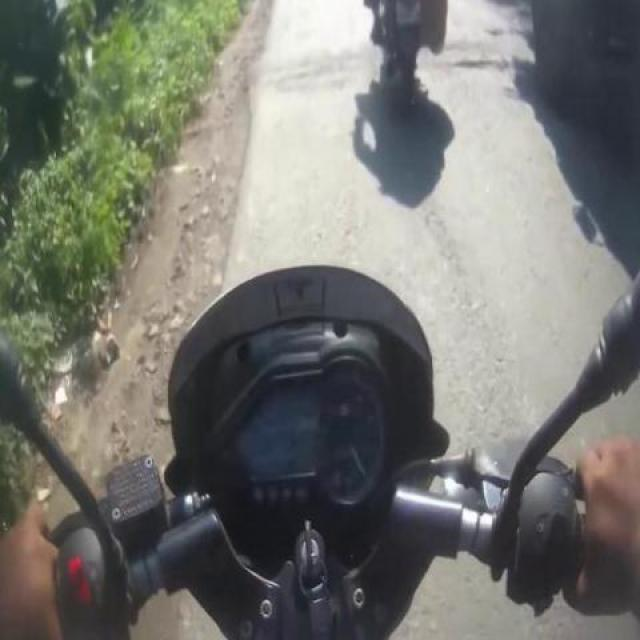Unmarked Bump: (247, 34, 369, 96), (446, 23, 532, 70)
